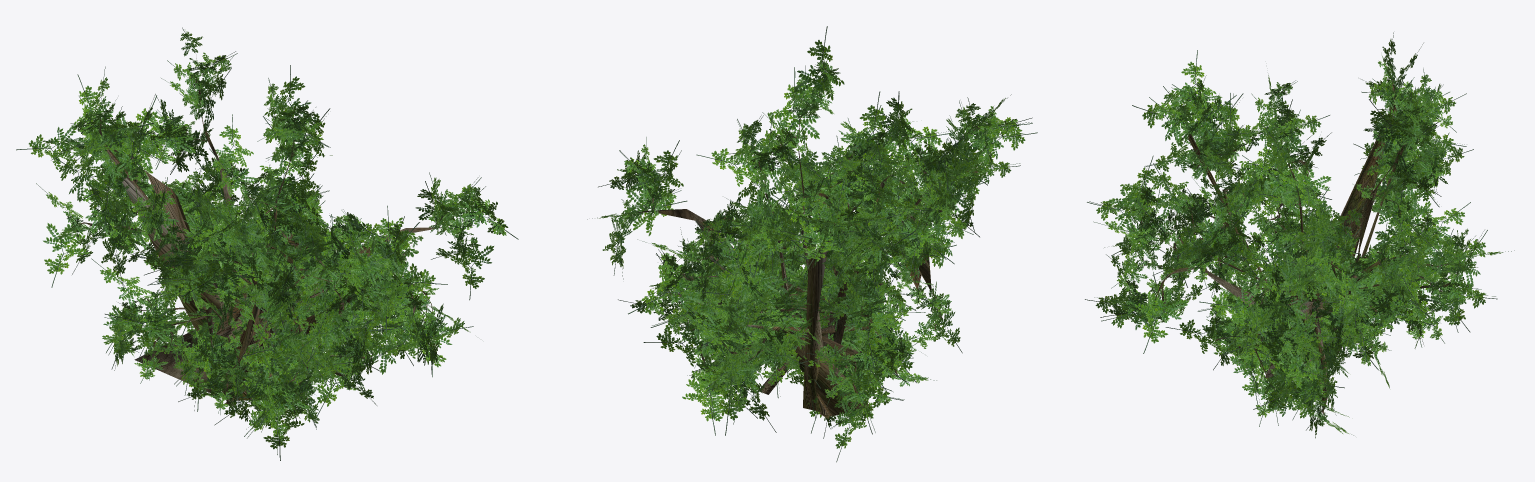
3 renders of one model, left to right at view 1: azimuth 30°, elevation 25°; view 2: azimuth 150°, elevation 25°; view 3: azimuth 270°, elevation 25°, orthographic. The views are drawn at different scales.
Visible parts, largest first — view 1: branches, branches.001; view 2: branches, branches.001; view 3: branches, branches.001.
Part boxes in pixels (x1,y1,x2,y2): branches: (16, 27, 518, 460); branches.001: (70, 58, 472, 405); branches: (587, 26, 1037, 462); branches.001: (621, 93, 981, 418); branches: (1085, 32, 1514, 438); branches.001: (1135, 62, 1457, 415).
Bounding box in the file's own units: 1.84 × 1.69 × 1.83.
Materials: 2 (2 with a texture image).
